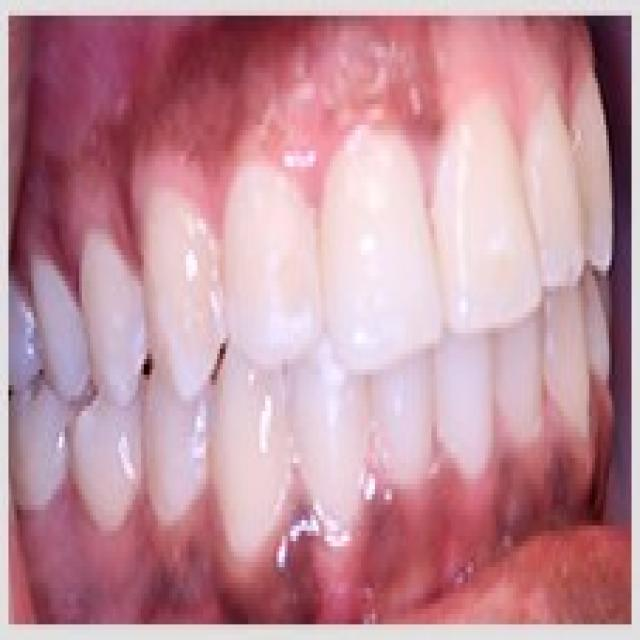tooth: (324, 130, 440, 375), (431, 104, 536, 349), (217, 166, 324, 370), (146, 192, 228, 396), (217, 380, 290, 557), (299, 375, 369, 546), (437, 338, 502, 510), (527, 99, 584, 286), (133, 411, 215, 526), (82, 234, 141, 385), (378, 374, 440, 500), (31, 250, 82, 390), (74, 406, 132, 520), (550, 297, 595, 442), (510, 333, 547, 458)
